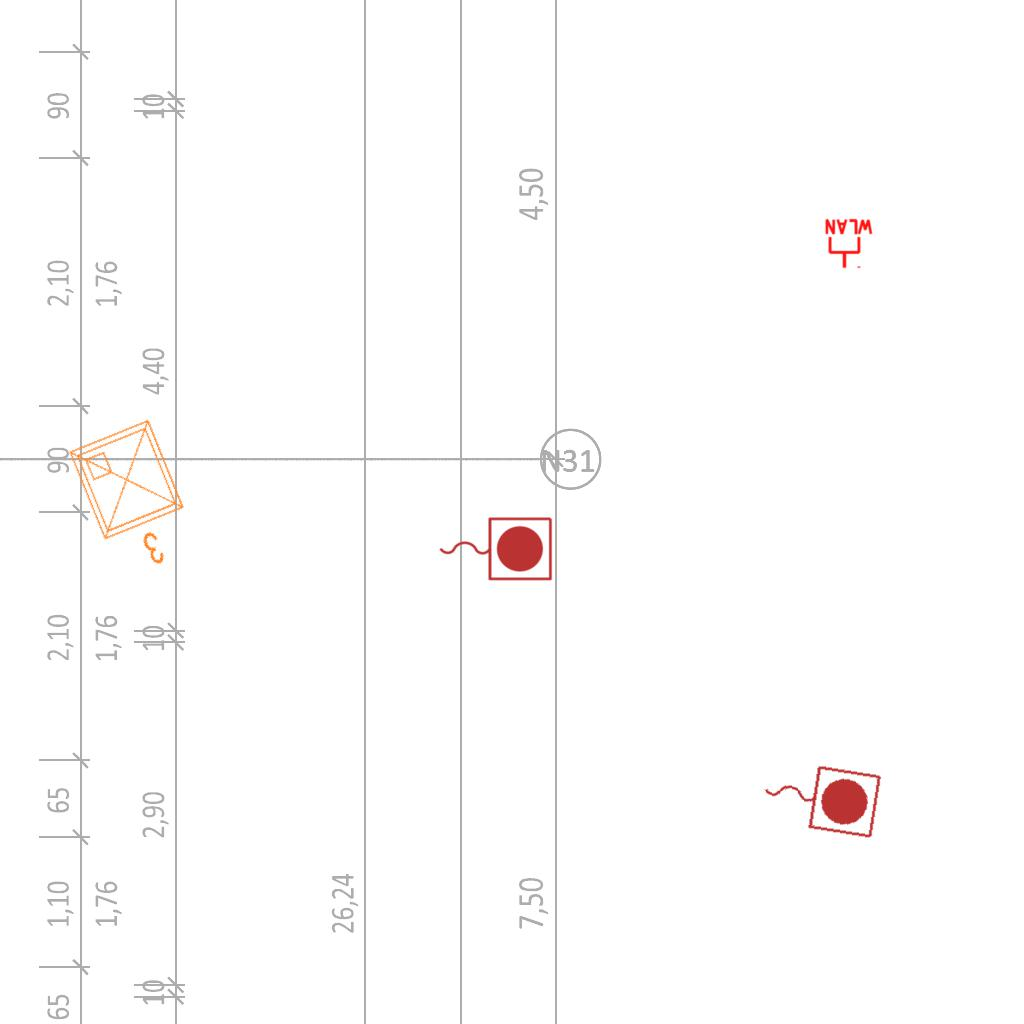Einbaudownlights_LED_Konferenzraeume: (59, 408, 213, 588)
WLAN: (823, 218, 875, 270)
Zugtaster: (754, 751, 886, 843), (434, 512, 556, 584)
